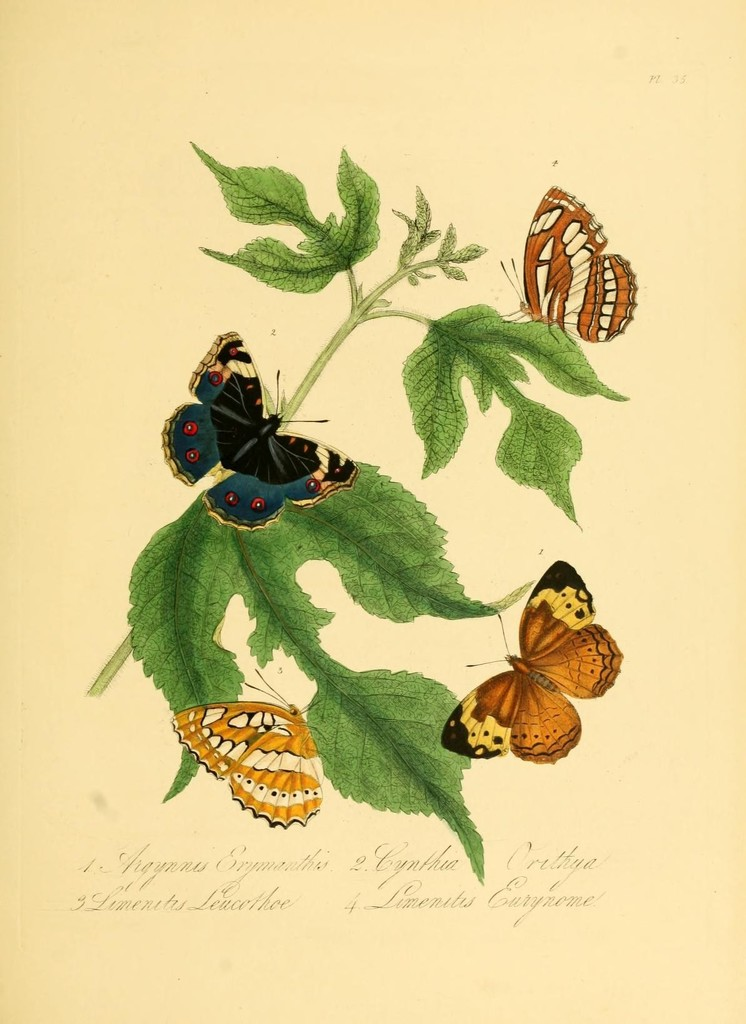Butterfly: (144, 324, 361, 533), (432, 555, 638, 773), (157, 670, 351, 834), (486, 169, 650, 351)
